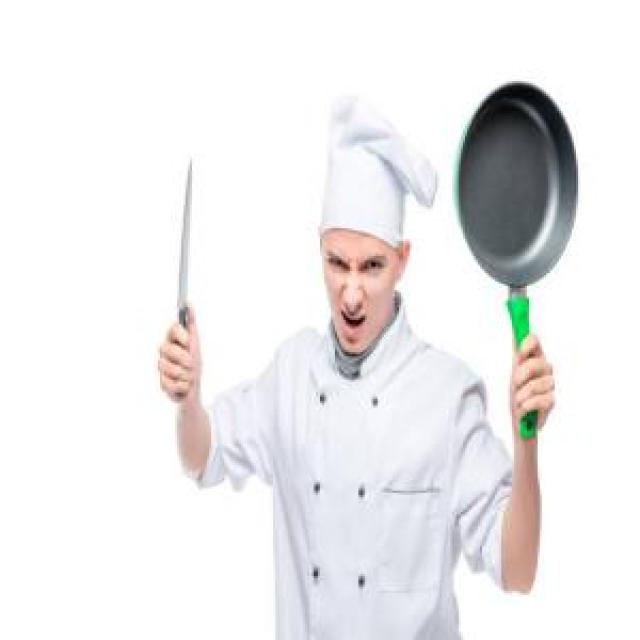knife: (175, 158, 197, 389)
